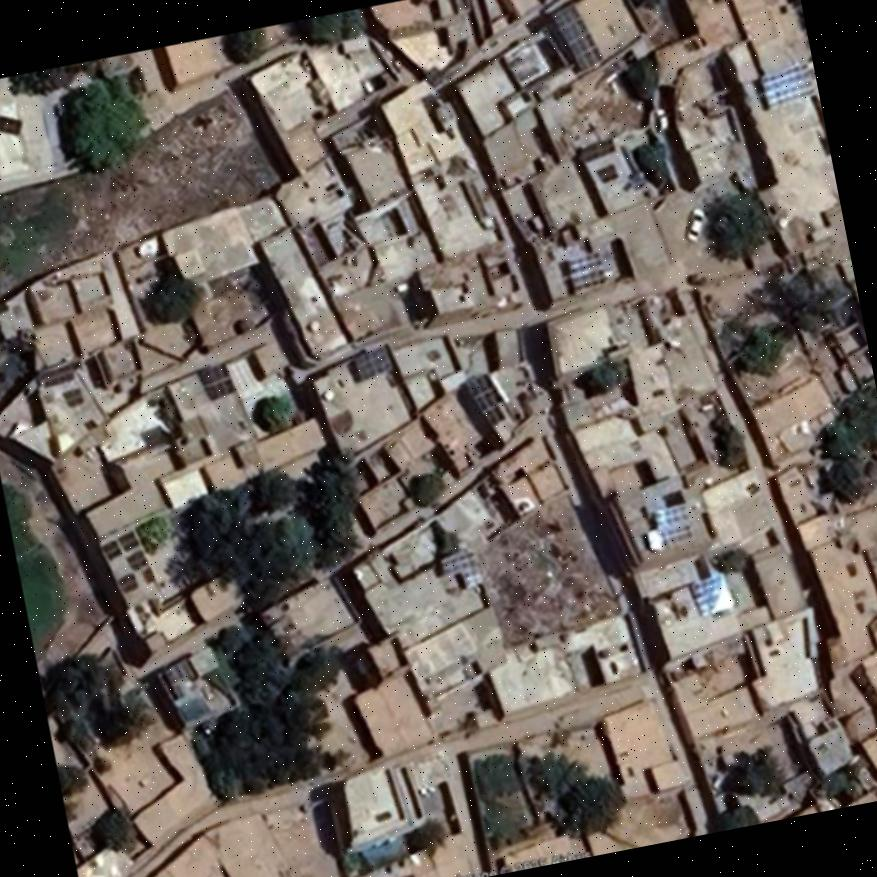Solarpanel: (549, 4, 603, 69), (653, 496, 705, 537), (760, 66, 815, 104), (689, 573, 731, 614), (567, 255, 601, 292), (350, 349, 394, 377), (198, 366, 233, 394)
